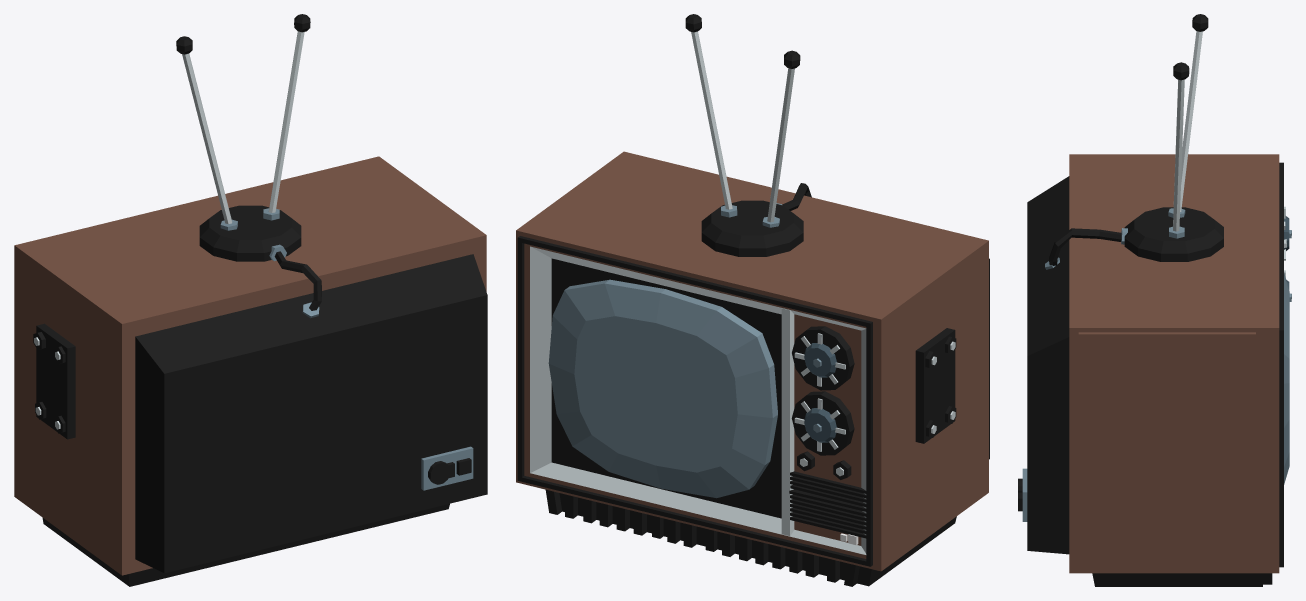
3 renders of one model, left to right at view 1: azimuth 30°, elevation 25°; view 2: azimuth 150°, elevation 25°; view 3: azimuth 270°, elevation 25°, orthographic. The views are drawn at different scales.
Parts seen in each view (by area): view 1: group466038209, group926842016, group310550301, group1476588037, group867327657, group1393598046, group2067760130, group1277734885, group1247399666; view 2: group926842016, group47669117, group1117102901, group310550301, group1476588037, group993591691, group2011111715, group270195480, group2019339649, group2017288429, group867327657, group1800594314 (+3 smaller); view 3: group1507732589, group926842016, group466038209, group310550301, group867327657, group47669117, group1800594314, group2067760130, group1393598046, group1247399666, group2019339649.
Boxes of the visible parts, x1,y1,x2,y2 form: group466038209: (135, 254, 487, 573); group926842016: (14, 156, 486, 575); group310550301: (199, 205, 301, 261); group1476588037: (36, 323, 75, 439); group867327657: (42, 503, 449, 586); group1393598046: (268, 31, 304, 212); group2067760130: (182, 53, 232, 224); group1277734885: (421, 446, 473, 490); group1247399666: (274, 251, 321, 310); group926842016: (516, 151, 988, 571); group47669117: (548, 279, 777, 498); group1117102901: (794, 314, 861, 545); group310550301: (701, 200, 803, 256); group1476588037: (915, 328, 955, 443); group993591691: (791, 391, 854, 455); group2011111715: (792, 326, 854, 390); group270195480: (781, 308, 794, 535); group2019339649: (517, 236, 872, 327); group2017288429: (522, 476, 870, 566); group867327657: (559, 493, 956, 586); group1800594314: (517, 237, 524, 481); group1507732589: (1078, 332, 1255, 571); group926842016: (1069, 154, 1279, 573); group466038209: (1027, 176, 1069, 554); group310550301: (1124, 207, 1223, 261); group867327657: (1092, 573, 1262, 586); group47669117: (1284, 272, 1289, 484); group1800594314: (1279, 330, 1283, 562); group2067760130: (1180, 31, 1202, 211); group1393598046: (1173, 79, 1184, 231); group1247399666: (1049, 228, 1121, 265); group2019339649: (1279, 164, 1283, 333).
Bounding box in the file's own units: 0.9287 × 1.12 × 0.5868.
